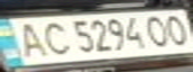2: (90, 16, 112, 53)
4: (121, 14, 148, 50)
5: (69, 17, 93, 54)
9: (106, 16, 130, 52)
A: (9, 19, 51, 58)
C: (36, 19, 72, 56)
O: (142, 12, 175, 48), (160, 12, 193, 46)
